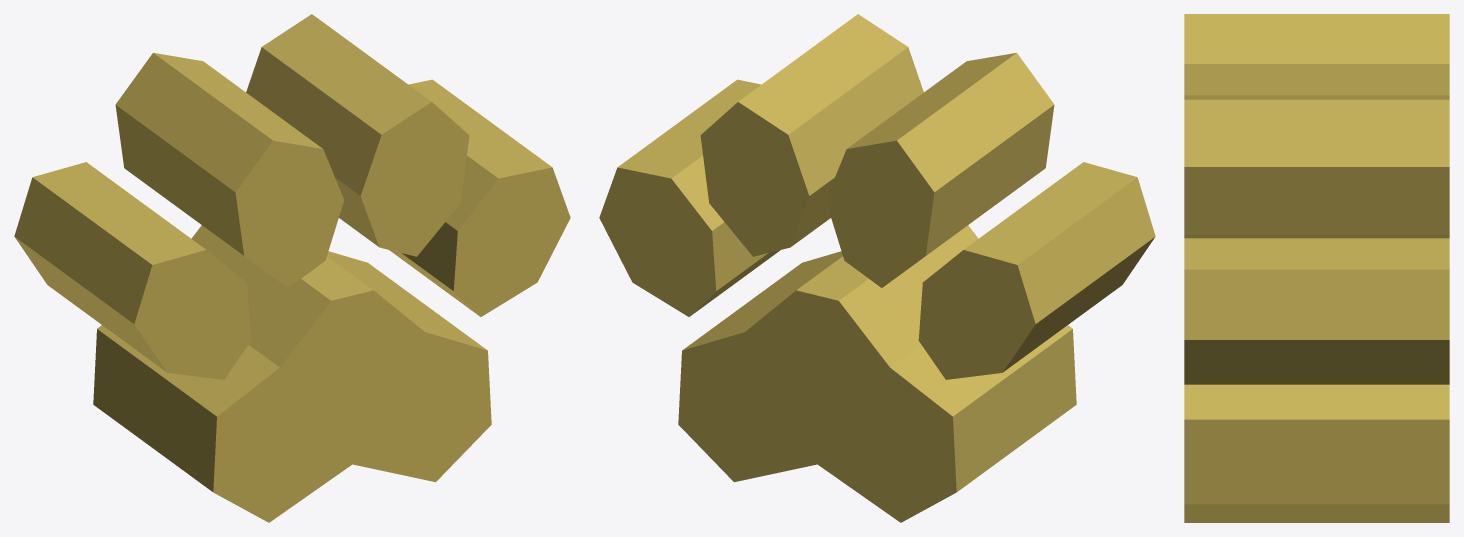
The model's file is Paw.fbx.
3 views of the same model, side by side, from view 1: azimuth 30°, elevation 25°; view 2: azimuth 150°, elevation 25°; view 3: azimuth 270°, elevation 25° (orthographic). The views are drawn at different scales.
Visible parts, largest first — view 1: Paw; view 2: Paw; view 3: Paw.
Part boxes in pixels (bbox=[...]): Paw: bbox=[14, 14, 570, 522]; Paw: bbox=[599, 14, 1155, 522]; Paw: bbox=[1184, 14, 1449, 522].
Bounding box in the file's own units: 33.31 × 27.82 × 15.87.
